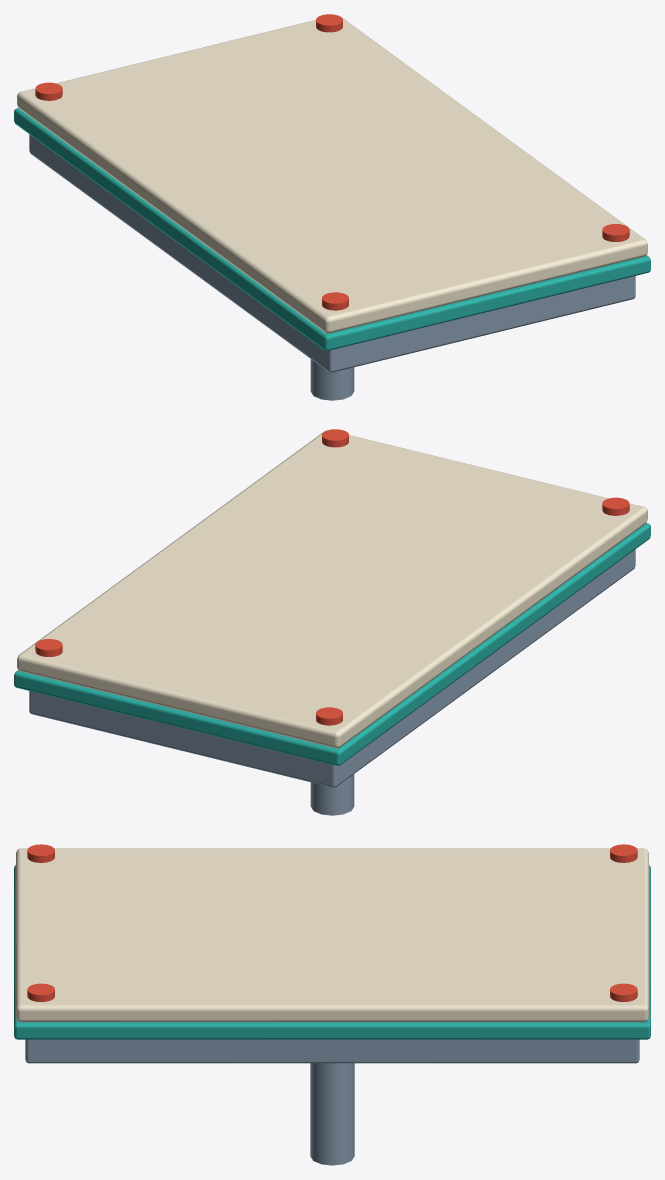
Rendered from PLAT_Toy_L.glb.
3 renders of one model, top to bottom at view 1: azimuth 30°, elevation 25°; view 2: azimuth 150°, elevation 25°; view 3: azimuth 270°, elevation 25°, orthographic.
Visible parts, largest first — view 1: Top, Base, Band, Strut; view 2: Top, Base, Band, Strut; view 3: Top, Base, Band, Strut.
Boxes of the visible parts, x1,y1,x2,y2 form: Top: [17, 15, 647, 333]; Base: [29, 134, 635, 372]; Band: [14, 108, 650, 350]; Strut: [310, 359, 354, 400]; Top: [17, 430, 647, 748]; Base: [29, 549, 635, 787]; Band: [14, 523, 650, 765]; Strut: [310, 774, 354, 815]; Top: [16, 848, 648, 1022]; Base: [25, 1039, 639, 1063]; Band: [14, 865, 650, 1039]; Strut: [310, 1063, 354, 1165].
Bounding box in the file's own units: 6.06 × 4.12 × 10.06.
